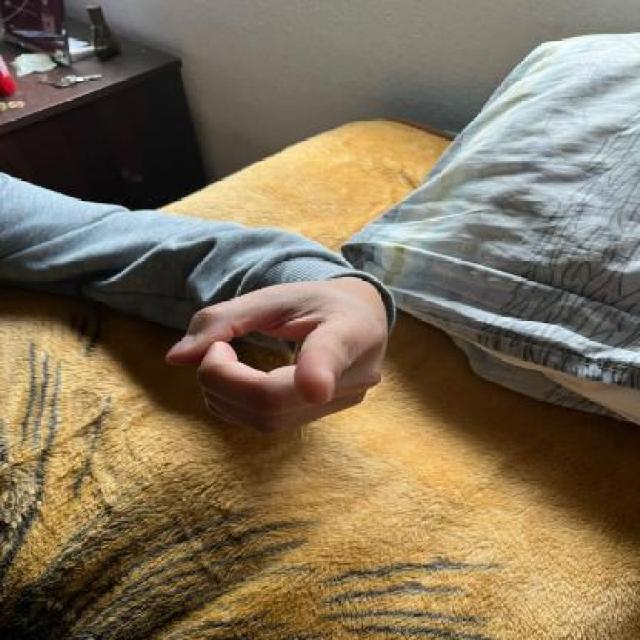X: (162, 270, 398, 442)
